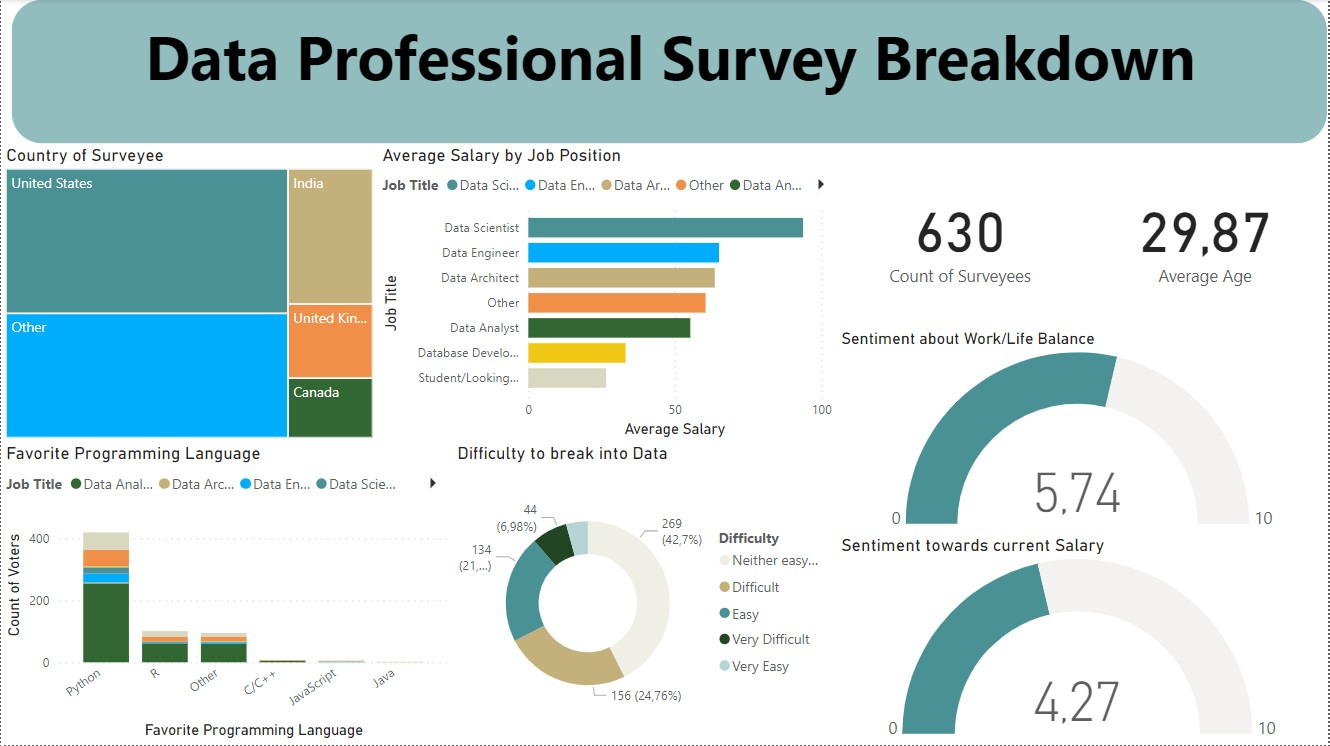

This screenshot's page, from the dashboard's own definition file:
{"tool":"powerbi","page":{"name":"Page 1","canvas":[1280,720],"ordinal":0},"visuals":[{"type":"textbox","box":[9.6,0,1270.7,140],"z":0},{"type":"card","fields":{"Values":["Count(Data Professional Survey.Unique ID)"]},"box":[806.4,139.8,236.9,178.1],"z":1000},{"type":"card","fields":{"Values":["Avg(Data Professional Survey.Q10 - Current Age)"]},"box":[1043.4,139.8,236.9,178.1],"z":2000},{"type":"barChart","title":"Average Salary by Job Position","fields":{"Category":["Data Professional Survey.Q1 - Which Title Best Fits your Current Role?.1"],"Y":["Avg(Data Professional Survey.Average Salary)"],"Series":["Data Professional Survey.Q1 - Which Title Best Fits your Current Role?.1"]},"box":[362.6,140.5,443.1,288.2],"z":3000},{"type":"columnChart","title":"Favorite Programming Language","fields":{"Category":["Data Professional Survey.Q5 - Favorite Programming Language.1"],"Y":["CountNonNull(Data Professional Survey.Unique ID)"],"Series":["Data Professional Survey.Q1 - Which Title Best Fits your Current Role?.1"]},"box":[0,428.7,435.9,290.6],"z":4000},{"type":"treemap","title":"Country of Surveyee","fields":{"Group":["Data Professional Survey.Q11 - Which Country do you live in?.1"],"Values":["CountNonNull(Data Professional Survey.Q11 - Which Country do you live in?.1)"]},"box":[0,139.9,363,288.2],"z":5000},{"type":"gauge","title":"Sentiment about Work/Life Balance","fields":{"Y":["Avg(Data Professional Survey.Q6 - How Happy are you in your Current Position with the following? (Work/Life Balance))"],"MinValue":["Min(Data Professional Survey.Q6 - How Happy are you in your Current Position with the following? (Work/Life Balance))1"],"MaxValue":["Max(Data Professional Survey.Q6 - How Happy are you in your Current Position with the following? (Work/Life Balance))2"]},"box":[805.7,318.2,474.3,198.1],"z":6000},{"type":"gauge","title":"Sentiment towards current Salary","fields":{"Y":["Avg(Data Professional Survey.Q6 - How Happy are you in your Current Position with the following? (Salary))"],"MinValue":["Min(Data Professional Survey.Q6 - How Happy are you in your Current Position with the following? (Salary))1"],"MaxValue":["Max(Data Professional Survey.Q6 - How Happy are you in your Current Position with the following? (Salary))2"]},"box":[805.7,516.3,474.3,202.9],"z":7000},{"type":"donutChart","title":"Difficulty to break into Data","fields":{"Category":["Data Professional Survey.Q7 - How difficult was it for you to break into Data?"],"Y":["CountNonNull(Data Professional Survey.Q7 - How difficult was it for you to break into Data?)"]},"box":[435.9,428.7,369.8,290.6],"z":8000}]}

Visuals, with their boxes in screenshot pixels (x1, y1, x2, y2), scaled from the page's 1280x720 canvas onto the 1330x746 screenshot:
textbox: l=10, t=0, r=1329, b=145
card - Count(Data Professional Survey.Unique ID): l=838, t=145, r=1084, b=329
card - Avg(Data Professional Survey.Q10 - Current Age): l=1084, t=145, r=1329, b=329
"Average Salary by Job Position" barChart: l=377, t=146, r=837, b=444
"Favorite Programming Language" columnChart: l=0, t=444, r=453, b=745
"Country of Surveyee" treemap: l=0, t=145, r=377, b=444
"Sentiment about Work/Life Balance" gauge: l=837, t=330, r=1329, b=535
"Sentiment towards current Salary" gauge: l=837, t=535, r=1329, b=745
"Difficulty to break into Data" donutChart: l=453, t=444, r=837, b=745
